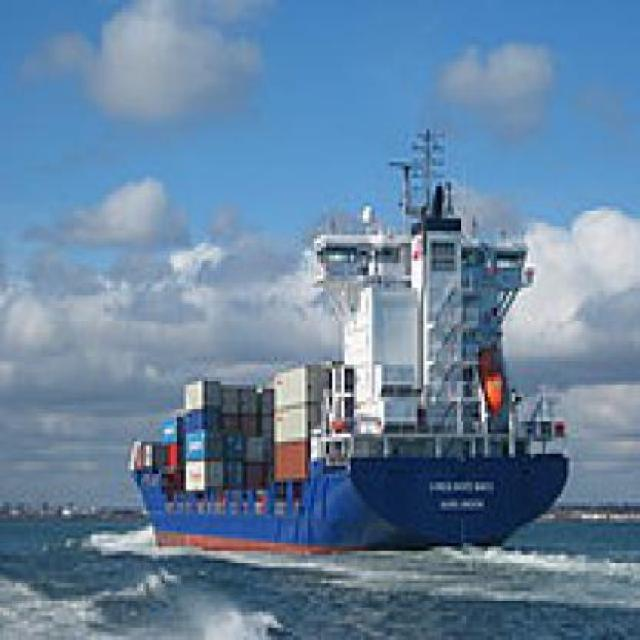container: (111, 114, 577, 568)
